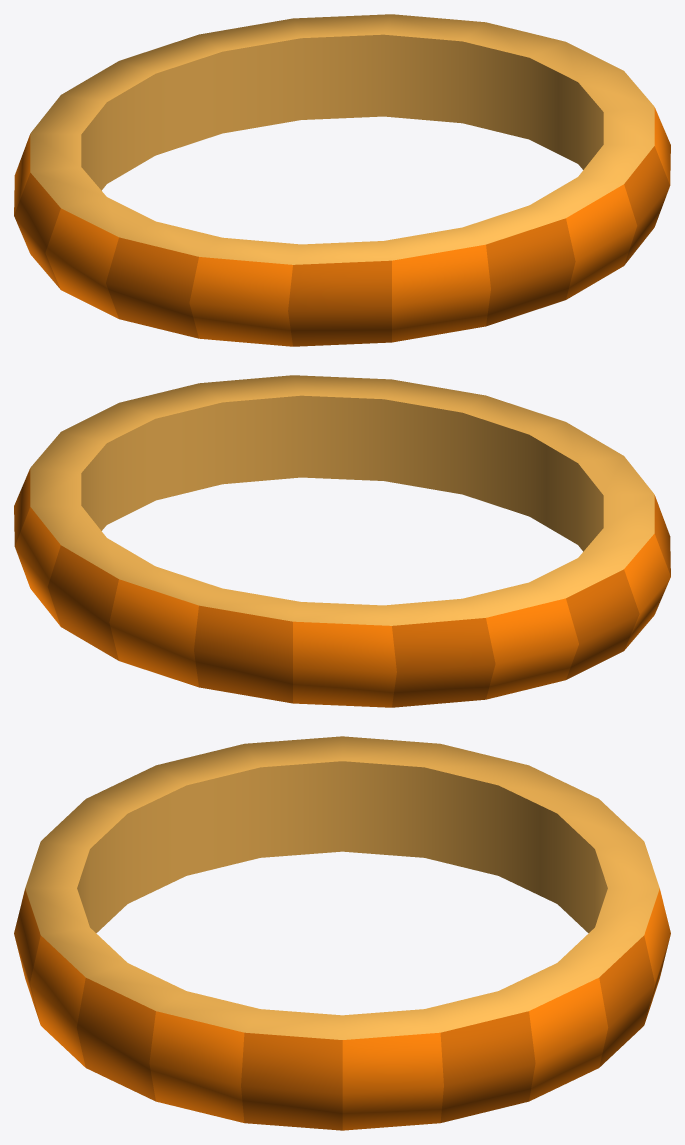
Rendered from Onion_white_ring_Hotdog.fbx.
3 views of the same model, one above another, from view 1: azimuth 30°, elevation 25°; view 2: azimuth 150°, elevation 25°; view 3: azimuth 270°, elevation 25° (orthographic). The views are drawn at different scales.
Parts seen in each view (by area): view 1: Onion_white_ring_Hotdog; view 2: Onion_white_ring_Hotdog; view 3: Onion_white_ring_Hotdog.
Part boxes in pixels (<box>): Onion_white_ring_Hotdog: <box>14,14,670,346</box>; Onion_white_ring_Hotdog: <box>14,375,670,707</box>; Onion_white_ring_Hotdog: <box>14,736,670,1130</box>.
Bounding box in the file's own units: 89.78 × 77.75 × 11.82.
